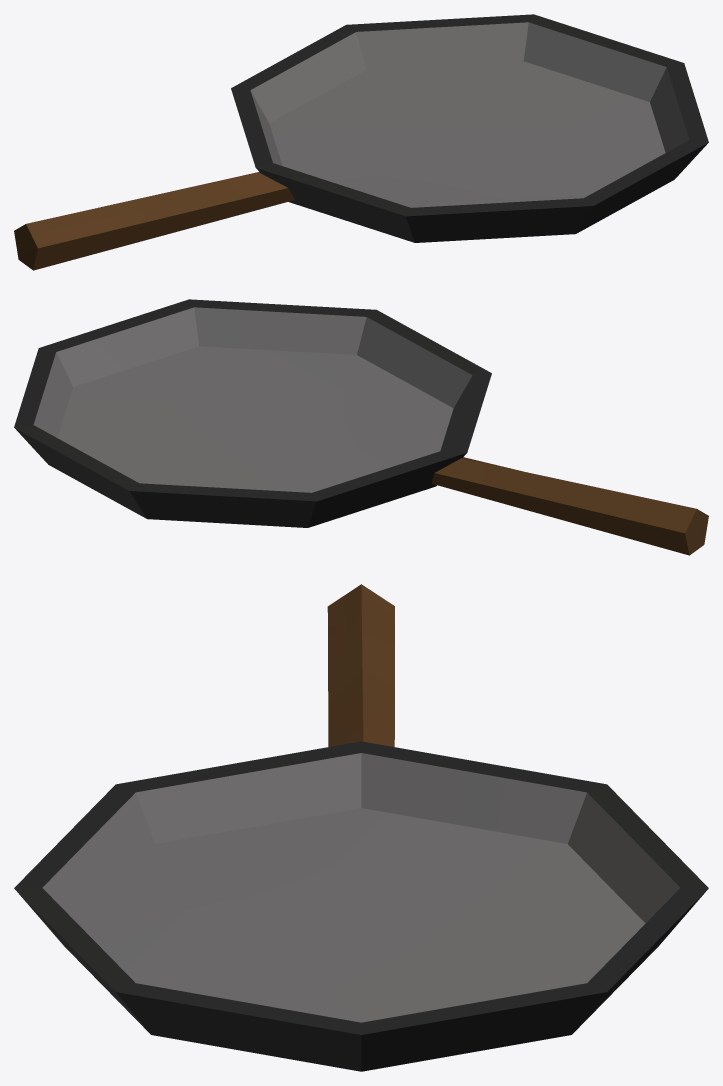
File: Pan.fbx
3 renders of one model, top to bottom at view 1: azimuth 30°, elevation 25°; view 2: azimuth 150°, elevation 25°; view 3: azimuth 270°, elevation 25°, orthographic. The views are drawn at different scales.
Visible parts, largest first — view 1: Pan; view 2: Pan; view 3: Pan.
Part boxes in pixels (left/top/right/bottom): Pan: left=14, top=14, right=708, bottom=270; Pan: left=14, top=299, right=708, bottom=555; Pan: left=14, top=584, right=708, bottom=1071.
Bounding box in the file's own units: 50.14 × 3.04 × 32.65.
Materials: 1 (1 with a texture image).
